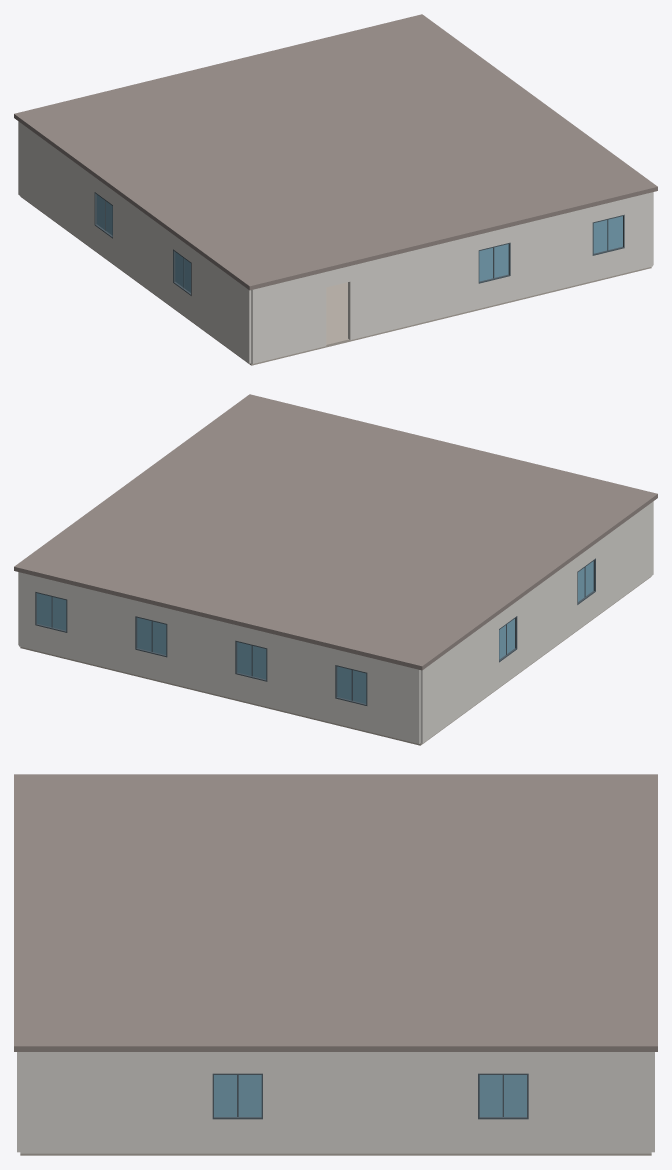
File: aabith-hom-f7f790dc0d.glb
3 views of the same model, one above another, from view 1: azimuth 30°, elevation 25°; view 2: azimuth 150°, elevation 25°; view 3: azimuth 270°, elevation 25° (orthographic). The views are drawn at different scales.
Visible parts, largest first — view 1: roof_0, wall_0_17, wall_0_18, wall_0_20, wall_0_16, wall_0_22, wall_0_21, floor_slab_0, wall_0_19, window_0_9_pane, window_0_7_pane, wall_0_63 (+3 smaller); view 2: roof_0, wall_0_20, wall_0_1, wall_0_2, wall_0_3, wall_0_21, wall_0_22, wall_0_0, wall_0_4, floor_slab_0, window_0_3_pane, window_0_1_pane (+10 smaller); view 3: roof_0, wall_0_34, wall_0_35, wall_0_33, window_0_4_pane, window_0_8_pane, floor_slab_0, wall_0_51, wall_0_65, wall_0_50, wall_0_64.
Part boxes in pixels (box(x1,y1,x2,y2)): roof_0: box(14, 14, 657, 290); wall_0_17: box(348, 234, 478, 339); wall_0_18: box(510, 207, 592, 300); wall_0_20: box(18, 121, 94, 249); wall_0_16: box(251, 272, 326, 363); wall_0_22: box(191, 248, 251, 363); wall_0_21: box(113, 191, 172, 307); floor_slab_0: box(20, 196, 651, 365); wall_0_19: box(624, 192, 652, 272); window_0_9_pane: box(593, 216, 622, 253); window_0_7_pane: box(479, 244, 508, 281); wall_0_63: box(478, 276, 510, 308); roof_0: box(14, 394, 657, 670); wall_0_20: box(420, 614, 498, 743); wall_0_1: box(267, 633, 335, 723); wall_0_2: box(167, 608, 235, 698); wall_0_3: box(67, 584, 135, 674); wall_0_21: box(517, 557, 577, 673); wall_0_22: box(596, 501, 653, 616); wall_0_0: box(367, 657, 420, 743); wall_0_4: box(19, 572, 35, 650); floor_slab_0: box(20, 576, 651, 745); window_0_3_pane: box(37, 593, 66, 630); window_0_1_pane: box(237, 642, 266, 679); roof_0: box(14, 774, 657, 1051); wall_0_34: box(263, 1052, 477, 1153); wall_0_35: box(20, 1052, 212, 1153); wall_0_33: box(528, 1052, 651, 1153); window_0_4_pane: box(479, 1075, 526, 1116); window_0_8_pane: box(214, 1075, 261, 1116); floor_slab_0: box(20, 1153, 651, 1155); wall_0_51: box(478, 1119, 528, 1153); wall_0_65: box(212, 1119, 262, 1153); wall_0_50: box(478, 1052, 528, 1073); wall_0_64: box(212, 1052, 262, 1073).
Size of the model in its own units: 51 by 9.8 by 51.
